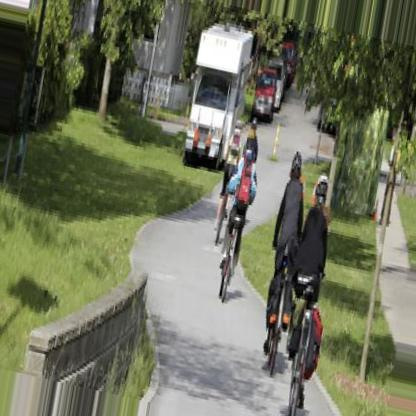with helmet: (311, 178, 330, 212), (289, 151, 304, 183)
